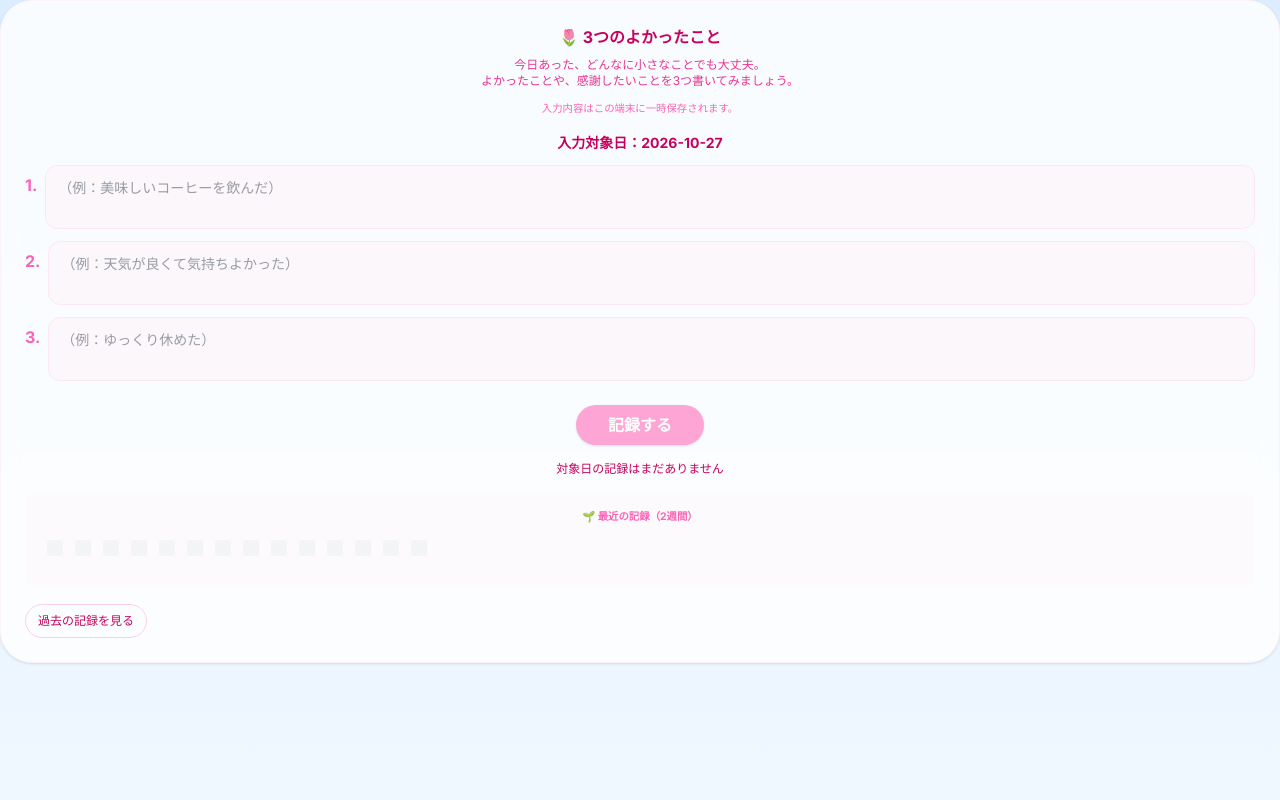
Scenario: ThreeGoodThingsCard › 保存のgetUser待機中に切り替わるとDB書き込みを送らない
Type "Aの入力" into the text box with placeholder "（例：美味しいコーヒーを飲んだ）" at x=650, y=197, box [45, 165, 1255, 229]
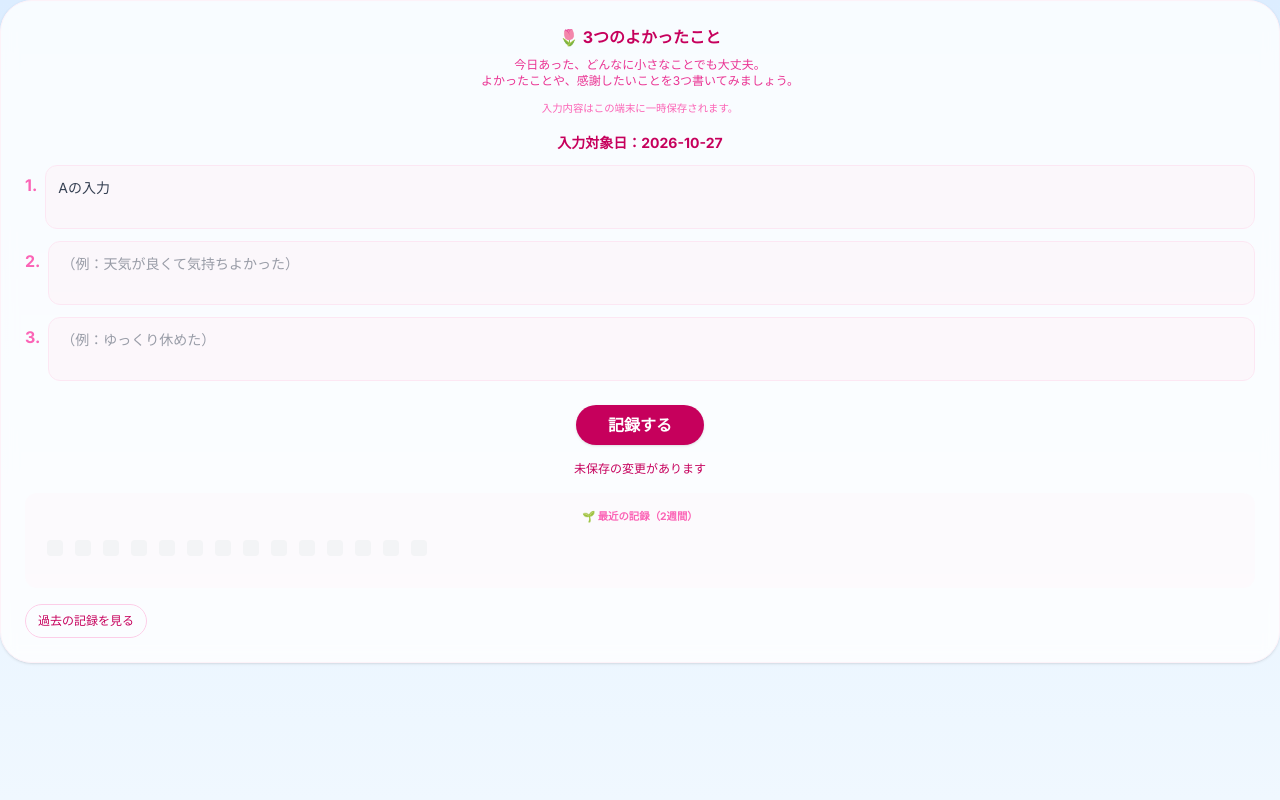
Click the button "記録する" at x=640, y=425, box [576, 405, 704, 445]
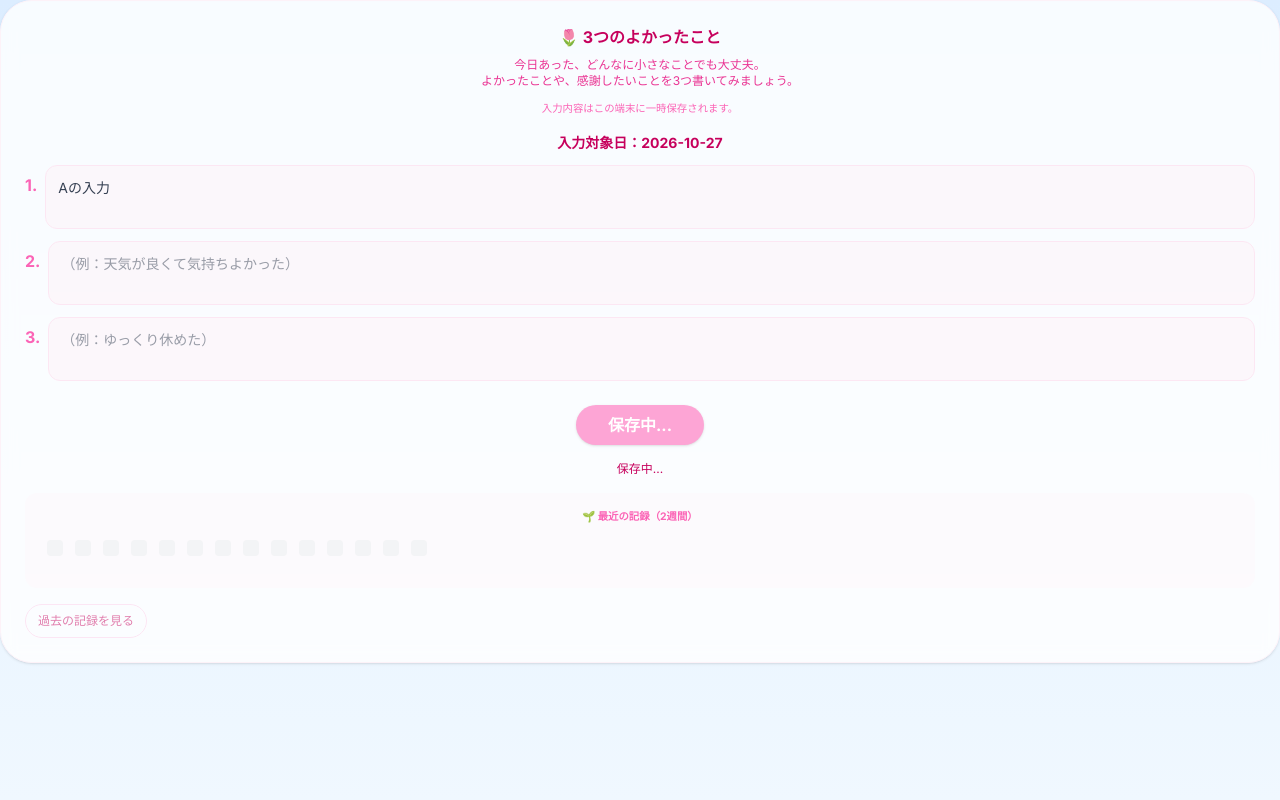
Expected: the button "保存中..." is disabled, [576, 405, 704, 445]
